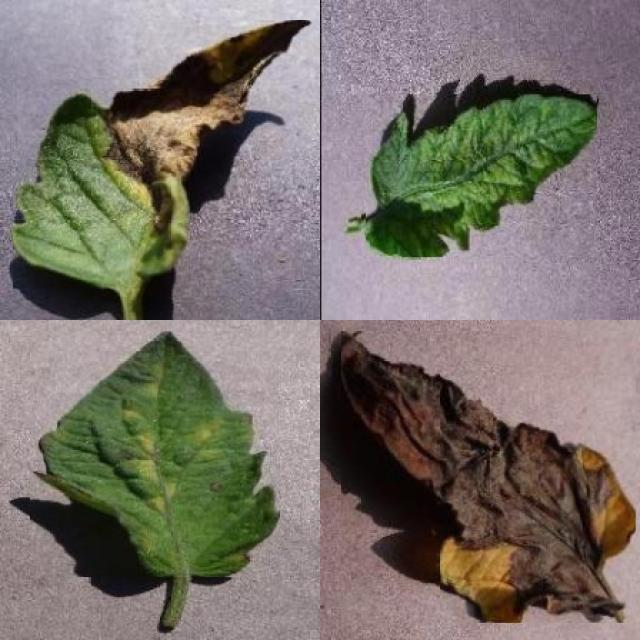Late Blight: (340, 330, 636, 623), (13, 21, 313, 289)
Leaf Mold: (31, 332, 279, 577)
Mosaic Virus: (366, 95, 598, 258)
